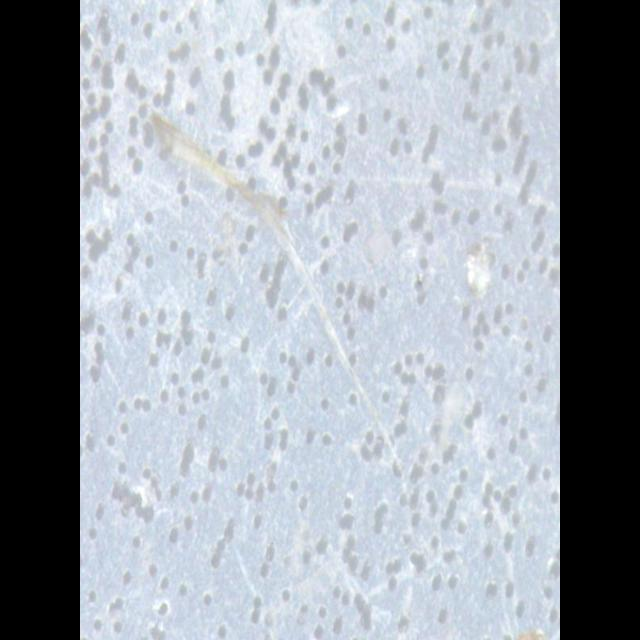Fibre: (144, 106, 413, 534)
